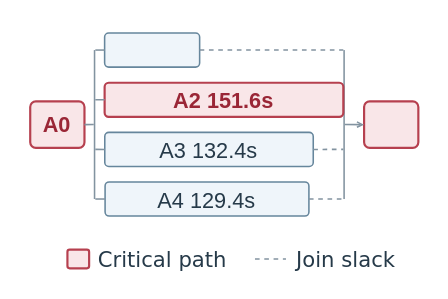
The diagram is 448 pixels wide and 299 high, and some of its shapes have lost their labels. The box of each missing label's shape, as (x1, y1, x2, y2) in pixels:
A1 60.4s: (103, 31, 200, 67)
A5: (362, 100, 419, 148)
